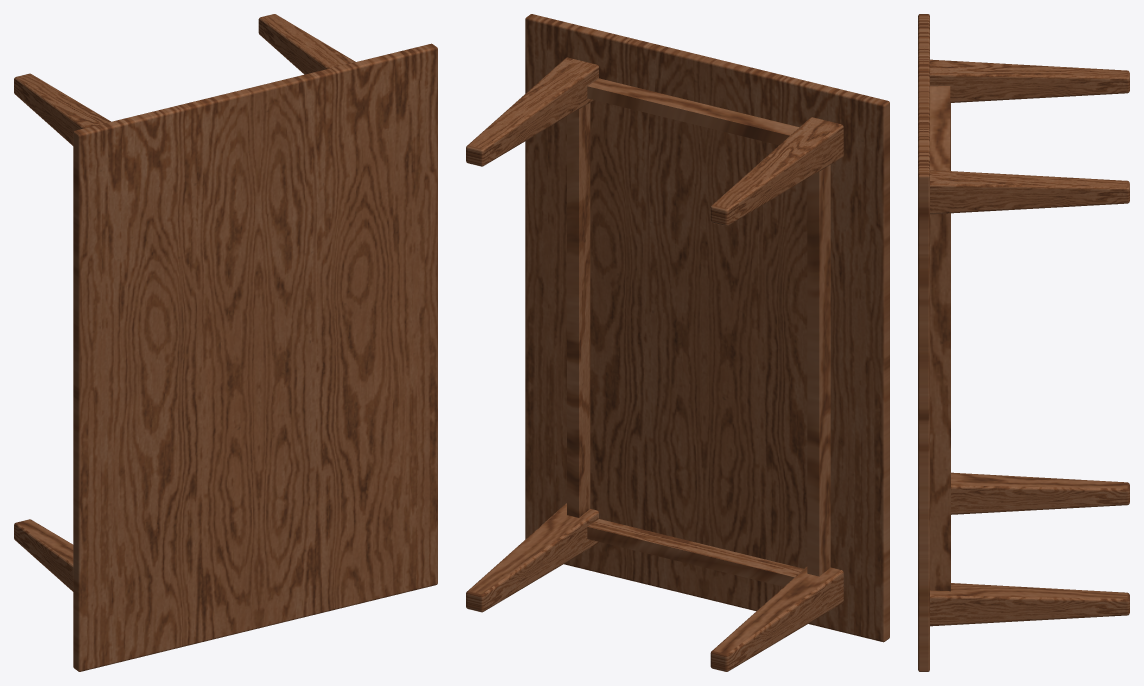
The model's file is 004_Table.obj.
The picture shows the model from 3 angles, left to right: view 1: azimuth 30°, elevation 25°; view 2: azimuth 150°, elevation 25°; view 3: azimuth 270°, elevation 25°; orthographic projection. The views are drawn at different scales.
Visible parts, largest first — view 1: Cube; view 2: Cube; view 3: Cube.
Boxes of the visible parts, x1,y1,x2,y2 form: Cube: [14, 14, 437, 671]; Cube: [466, 14, 889, 671]; Cube: [918, 14, 1129, 671].
Size of the model in its own units: 1.4 by 2 by 0.7719.
